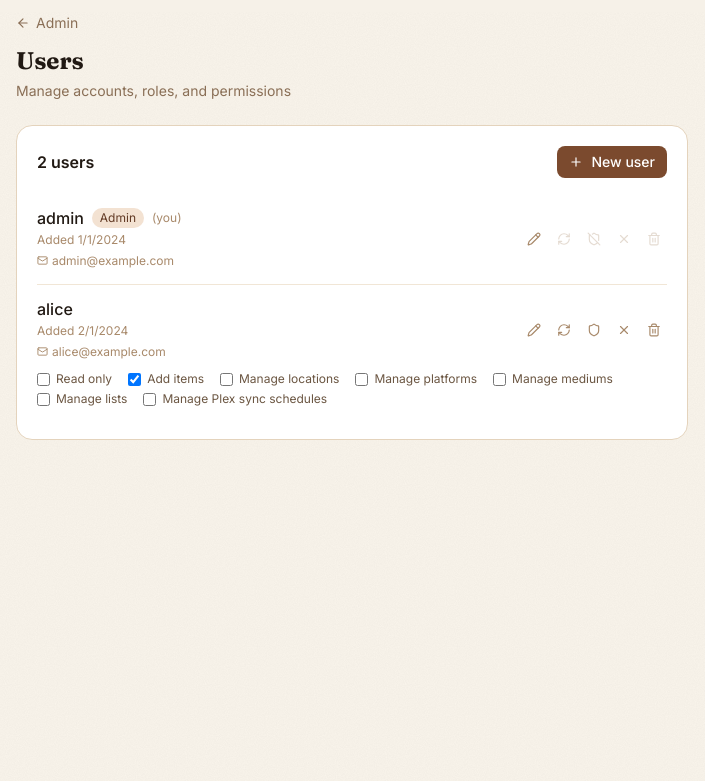
Test case: AdminUsers › shows validation errors for an invalid username and email
The image size is (705, 781).
Expected: the text "alice" is shown, [37,297,73,321]
Click the button "New user" at (612, 162), box [558,146,667,178]
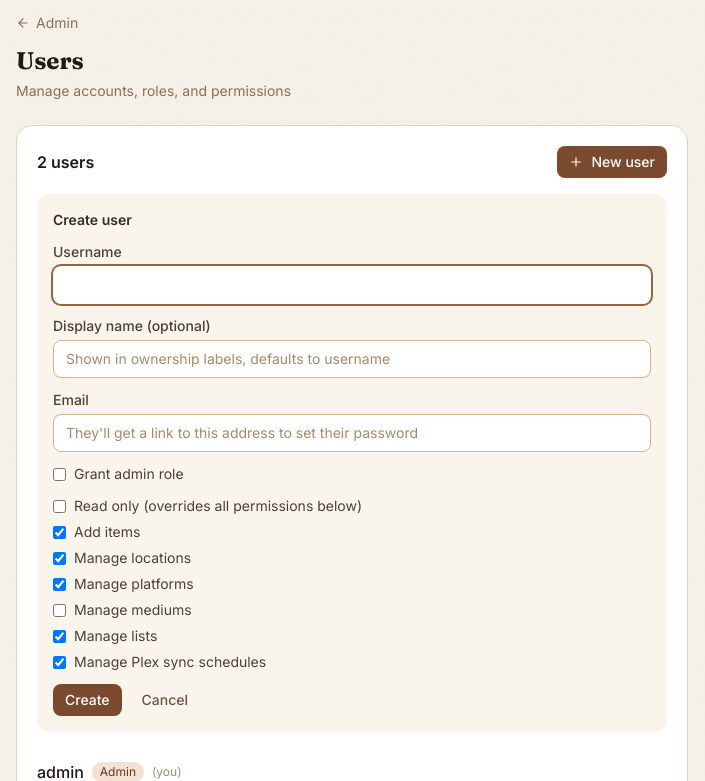
Type "a" into the 1st field at (352, 285), box [53,266,651,304]
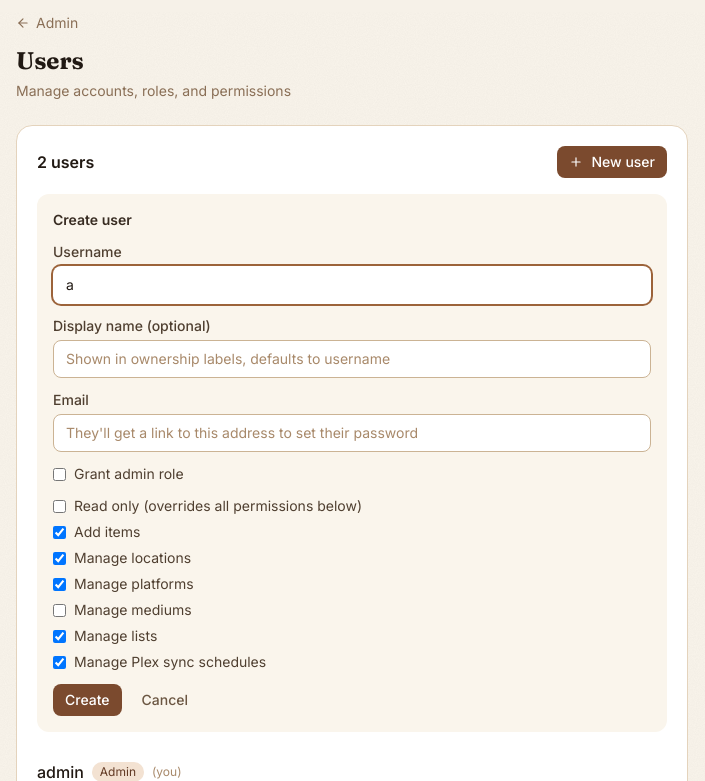
Type "not-an-email" into the field with placeholder "They'll get a link to this address to set their password" at (352, 433), box [53,414,651,452]
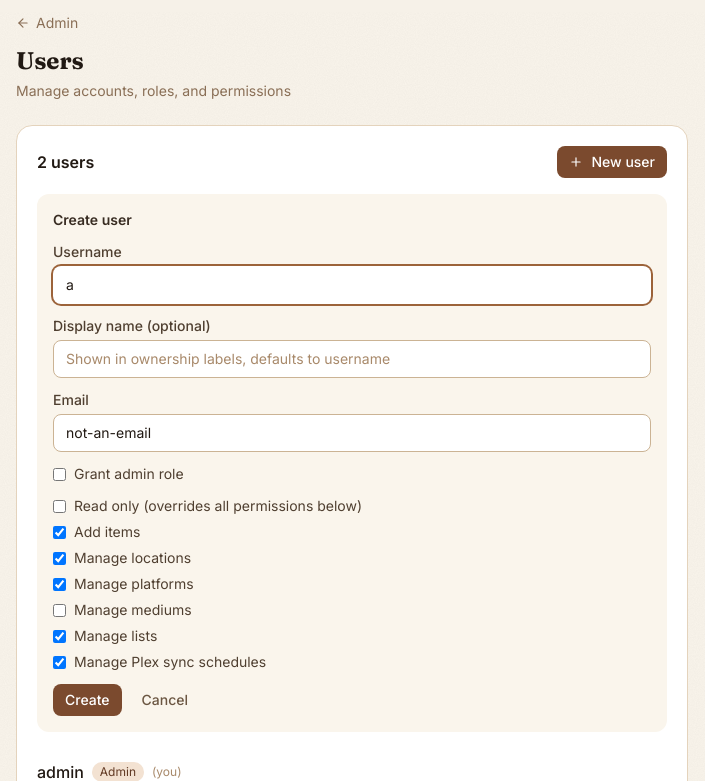
Click the button "Create" at (87, 700), box [53,684,122,716]
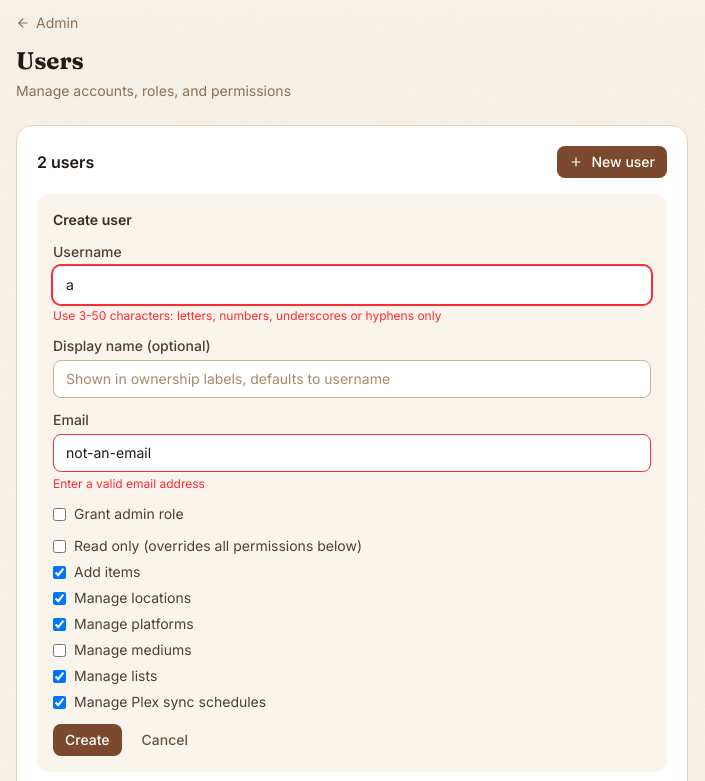
Expected: the text "Use 3-50 characters: letters, numbers, underscores or hyphens only" is shown, [53,308,441,323]
Expected: the text "Enter a valid email address" is shown, [53,476,205,491]
